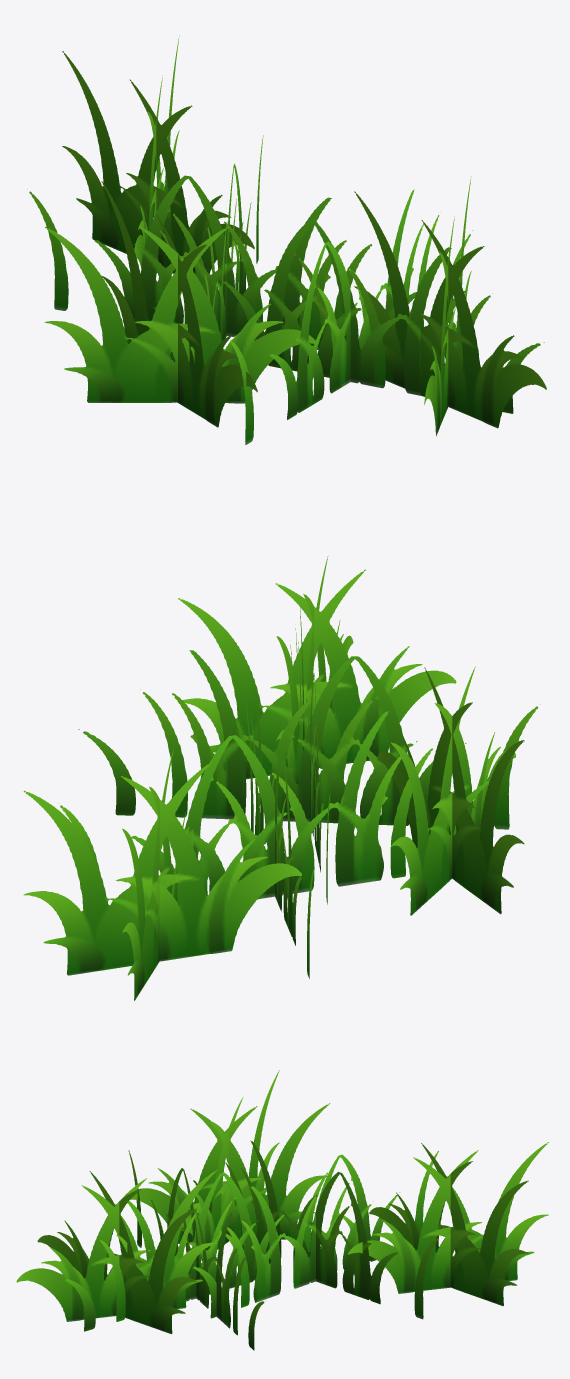
Rendered from SM_Grass009.FBX.
3 renders of one model, top to bottom at view 1: azimuth 30°, elevation 25°; view 2: azimuth 150°, elevation 25°; view 3: azimuth 270°, elevation 25°, orthographic. The views are drawn at different scales.
Visible parts, largest first — view 1: Grass009; view 2: Grass009; view 3: Grass009.
Part boxes in pixels (x1,y1,x2,y2): Grass009: (27,36,546,444); Grass009: (23,555,540,1000); Grass009: (16,1070,548,1350).
Bounding box in the file's own units: 106 × 149 × 44.85.
